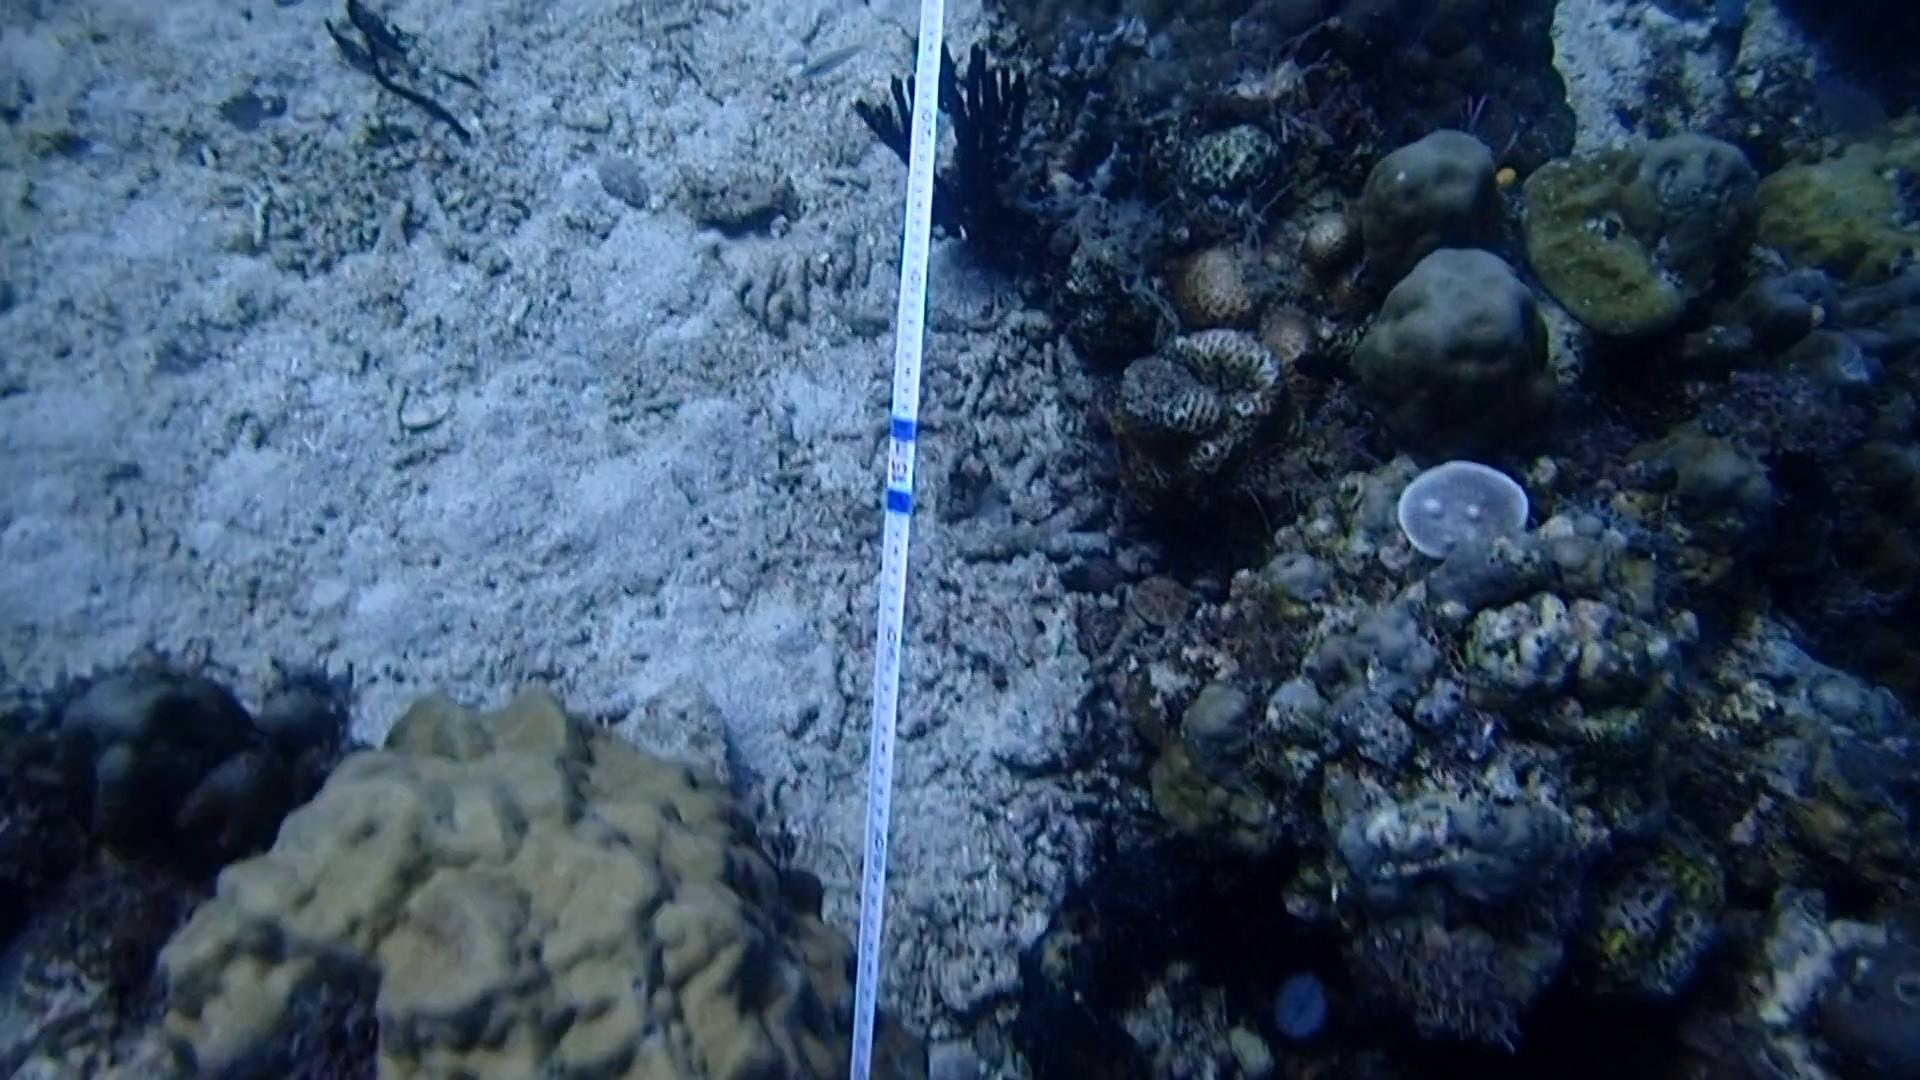Dark Fish: (1290, 340, 1366, 400)
